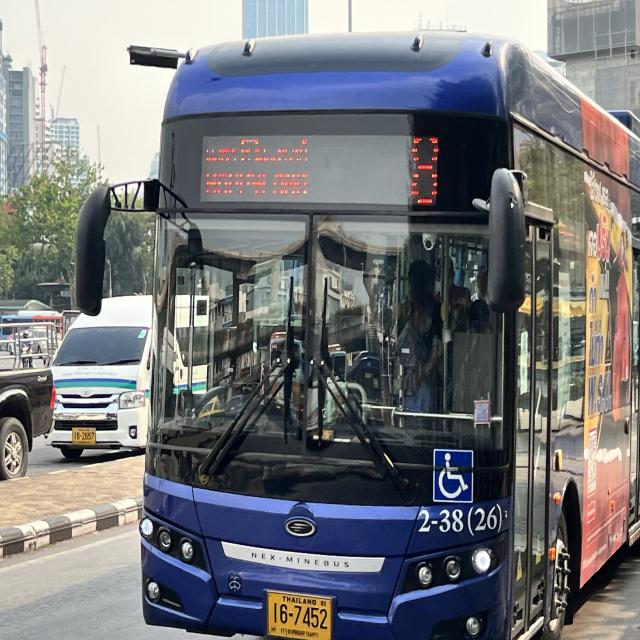Bus-Line-Number: (399, 128, 452, 216)
Destination-Sign-Normal: (193, 127, 330, 214)
TSB-Bus: (119, 20, 640, 640)
